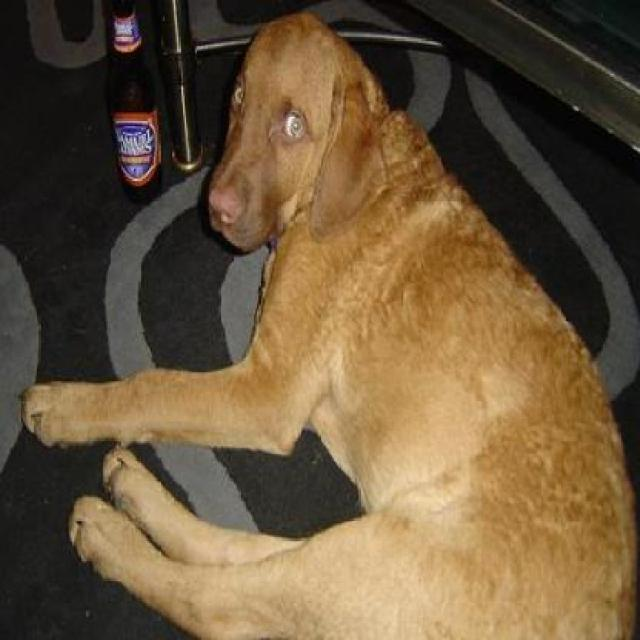Dog: (14, 4, 638, 638)
